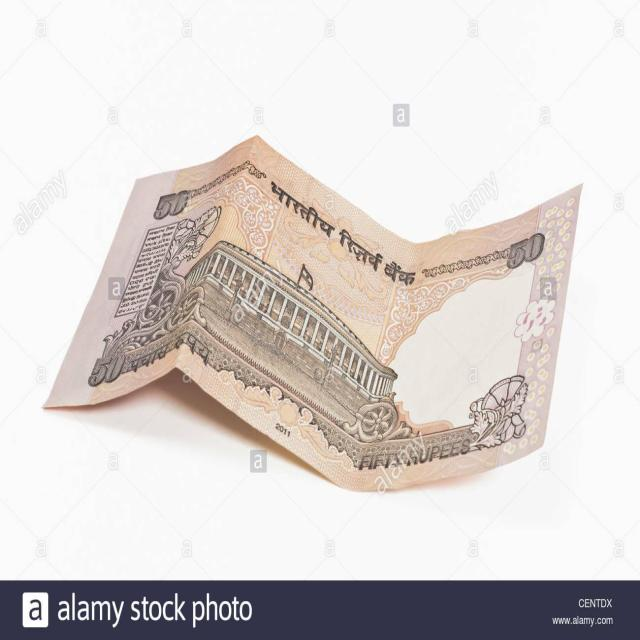50IndianRupees: (43, 130, 581, 490)
